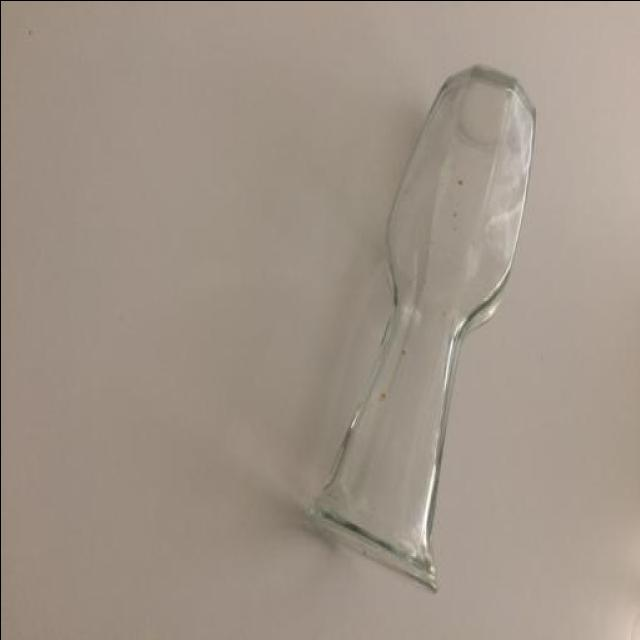glass: (292, 58, 544, 594)
